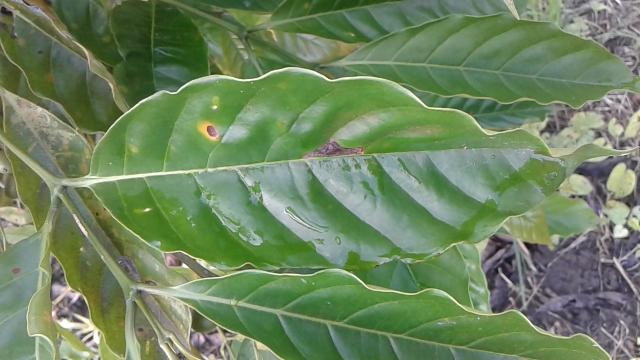rust_level_1: (86, 64, 640, 276)
